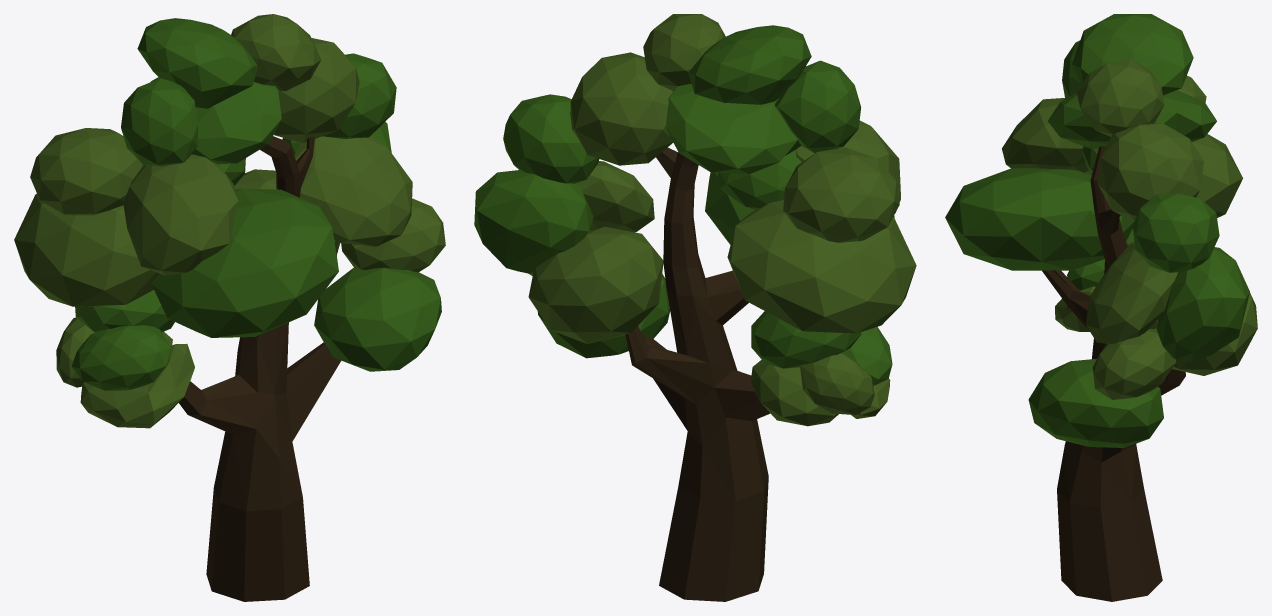
The model's file is Oak_Tree.obj.
The picture shows the model from 3 angles, left to right: view 1: azimuth 30°, elevation 25°; view 2: azimuth 150°, elevation 25°; view 3: azimuth 270°, elevation 25°; orthographic projection. The views are drawn at different scales.
Visible parts, largest first — view 1: Oak_Cylinder.004; view 2: Oak_Cylinder.004; view 3: Oak_Cylinder.004.
Boxes of the visible parts, x1,y1,x2,y2 form: Oak_Cylinder.004: [14, 14, 445, 601]; Oak_Cylinder.004: [474, 14, 916, 601]; Oak_Cylinder.004: [945, 14, 1257, 601].
Bounding box in the file's own units: 3.96 × 5.31 × 2.84.
